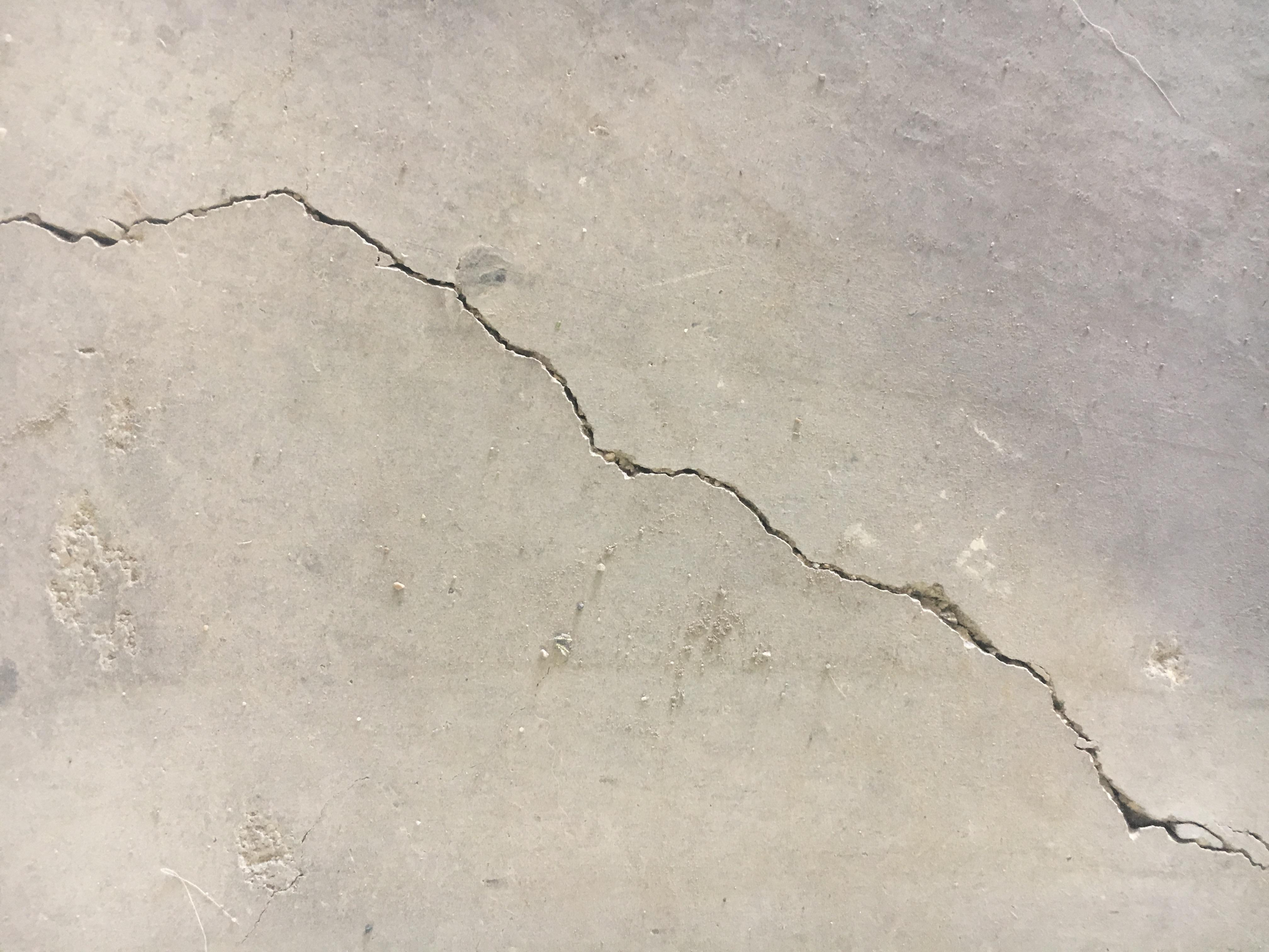Diagonal Crack: (5, 183, 1263, 873)
